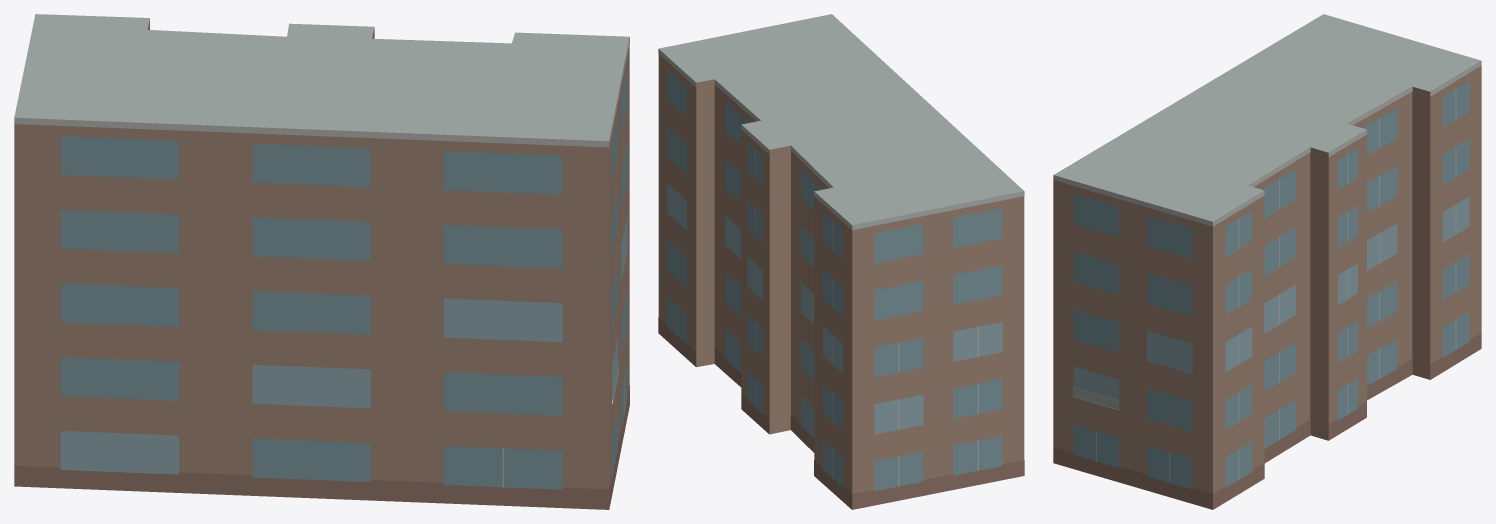
File: survey-upis-32785999.glb
3 views of the same model, side by side, from view 1: azimuth 30°, elevation 25°; view 2: azimuth 150°, elevation 25°; view 3: azimuth 270°, elevation 25° (orthographic). The views are drawn at different scales.
Visible parts, largest first — view 1: survey-upis-32785999.tmp; view 2: survey-upis-32785999.tmp; view 3: survey-upis-32785999.tmp.
Boxes of the visible parts, box(x1,y1,x2,y2) form: survey-upis-32785999.tmp: box(14, 14, 629, 509); survey-upis-32785999.tmp: box(658, 14, 1024, 509); survey-upis-32785999.tmp: box(1053, 14, 1481, 509).
Size of the model in its own units: 22.12 by 14.3 by 19.26.
